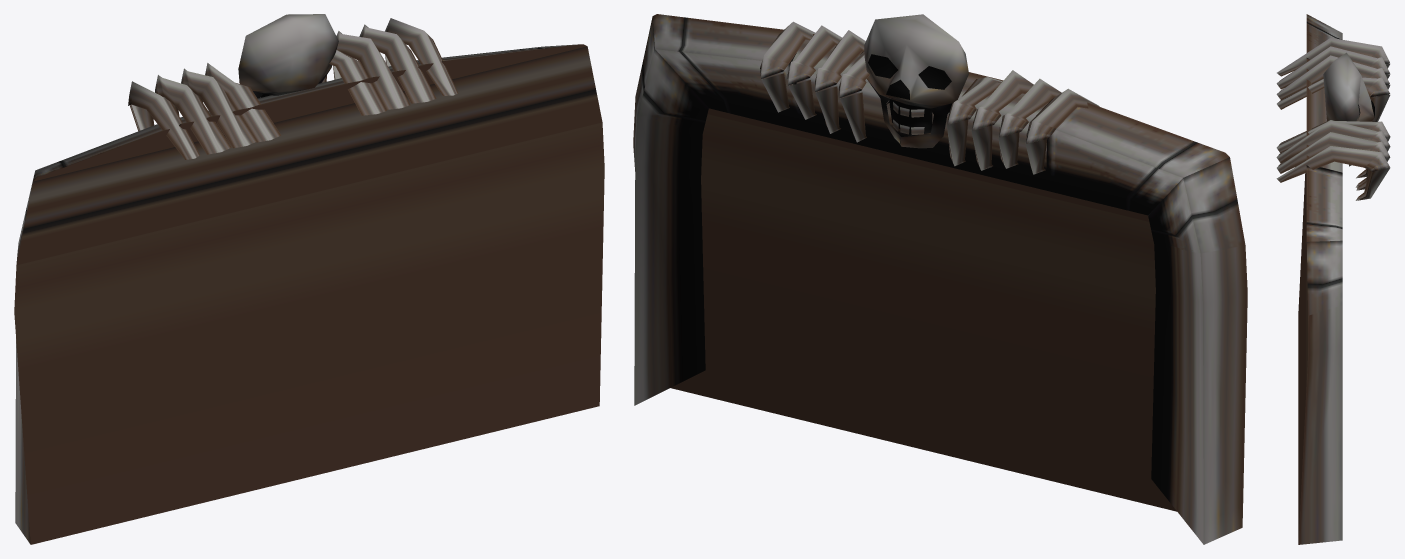
Rendered from misc_c_lr_rem1.glb.
3 views of the same model, side by side, from view 1: azimuth 30°, elevation 25°; view 2: azimuth 150°, elevation 25°; view 3: azimuth 270°, elevation 25° (orthographic). The views are drawn at different scales.
Visible parts, largest first — view 1: misc_c_lr_rem1; view 2: misc_c_lr_rem1; view 3: misc_c_lr_rem1.
Boxes of the visible parts, x1,y1,x2,y2 form: misc_c_lr_rem1: (14,14,604,544); misc_c_lr_rem1: (633,14,1247,544); misc_c_lr_rem1: (1276,14,1390,544).
Bounding box in the file's own units: 0.9555 × 0.6793 × 0.1905.
Materials: 2 (2 with a texture image).
